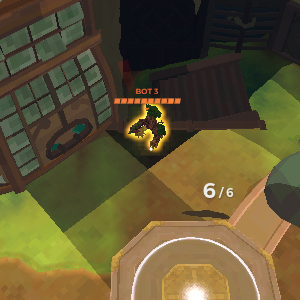model: (131, 107, 164, 145)
